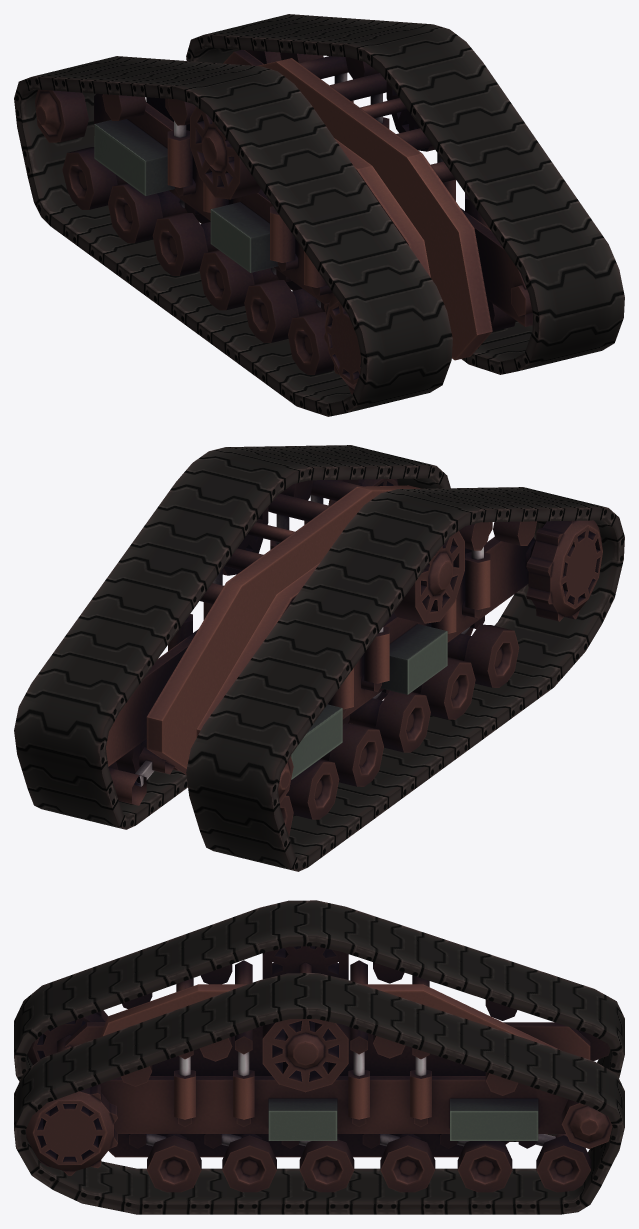
The model's file is Tank_track_v2.FBX.
3 renders of one model, top to bottom at view 1: azimuth 30°, elevation 25°; view 2: azimuth 150°, elevation 25°; view 3: azimuth 270°, elevation 25°, orthographic. The views are drawn at different scales.
Visible parts, largest first — view 1: Tank_track_v1_caterpillar_R, Tank_track_v1_caterpillar_L, Tank_track_v2_R, Tank_track_v2_L, Tank_track_v2_S1_R, Tank_track_v2_S2_R, Tank_track_v2_S1_L; view 2: Tank_track_v1_caterpillar_R, Tank_track_v1_caterpillar_L, Tank_track_v2_R, Tank_track_v2_L, Tank_track_v2_S2_R, Tank_track_v2_S1_R, Tank_track_v2_S1_L; view 3: Tank_track_v2_L, Tank_track_v1_caterpillar_L, Tank_track_v1_caterpillar_R, Tank_track_v2_R, Tank_track_v2_S2_L, Tank_track_v2_S1_L, Tank_track_v2_S1_R, Tank_track_v2_S2_R.
Boxes of the visible parts, box(x1,y1,x2,y2) form: Tank_track_v1_caterpillar_R: box(14, 56, 452, 416); Tank_track_v1_caterpillar_L: box(186, 14, 624, 374); Tank_track_v2_R: box(35, 89, 430, 374); Tank_track_v2_L: box(223, 49, 533, 360); Tank_track_v2_S1_R: box(190, 106, 260, 199); Tank_track_v2_S2_R: box(324, 294, 360, 394); Tank_track_v2_S1_L: box(386, 82, 434, 151); Tank_track_v1_caterpillar_R: box(186, 487, 624, 871); Tank_track_v1_caterpillar_L: box(14, 445, 450, 829); Tank_track_v2_R: box(196, 521, 536, 835); Tank_track_v2_L: box(106, 479, 420, 805); Tank_track_v2_S2_R: box(526, 520, 602, 621); Tank_track_v2_S1_R: box(394, 531, 464, 623); Tank_track_v2_S1_L: box(222, 507, 268, 575); Tank_track_v2_L: box(99, 1025, 612, 1192); Tank_track_v1_caterpillar_L: box(14, 973, 624, 1214); Tank_track_v1_caterpillar_R: box(14, 900, 624, 1141); Tank_track_v2_R: box(57, 960, 610, 1060); Tank_track_v2_S2_L: box(26, 1084, 117, 1175); Tank_track_v2_S1_L: box(262, 1018, 348, 1092); Tank_track_v2_S1_R: box(262, 946, 348, 979); Tank_track_v2_S2_R: box(27, 1010, 108, 1064).
Bounding box in the file's own units: 2.78 × 2.46 × 6.61.
